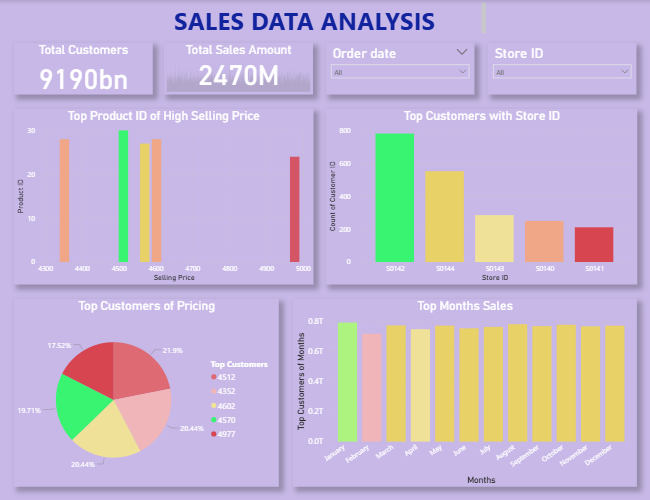

Layout of this report page (visuals, bound fields, positions):
{"tool":"powerbi","page":{"name":"Page 1","canvas":[1280,980],"ordinal":0},"visuals":[{"type":"textbox","box":[245.2,0,713.9,72.2],"z":0},{"type":"kpi","title":"Total Sales Amount","fields":{"Indicator":["Sum(order_details_v1.customer_id)"],"TrendLine":["order_details_v1.selling_price"]},"box":[324.2,84,292.3,100.8],"z":1000},{"type":"card","title":"Total Customers","fields":{"Values":["Sum(order_details_v1.customer_id)"]},"box":[28.6,84,272.1,100.8],"z":2000},{"type":"slicer","fields":{"Values":["order_details_v1.order_date"]},"box":[640,84,290.6,100.8],"z":3000},{"type":"slicer","fields":{"Values":["order_details_v1.store_id"]},"box":[959.2,84,290.6,100.8],"z":4000},{"type":"columnChart","title":"Top Customers with Store ID","fields":{"Y":["Count(order_details_v1.customer_id)"],"Category":["order_details_v1.store_id"]},"box":[640.3,212.8,609.9,343.9],"z":5000},{"type":"columnChart","title":"Top Product ID of High Selling Price","fields":{"Y":["CountNonNull(order_details_v1.product_id)"],"Category":["order_details_v1.selling_price"]},"box":[28.5,212.8,587.1,343.9],"z":6000},{"type":"pieChart","title":"Top Customers of Pricing","fields":{"Category":["order_details_v1.selling_price"],"Y":["Sum(order_details_v1.customer_id)"]},"box":[29.4,586,519.4,368.5],"z":7000},{"type":"clusteredColumnChart","title":"Top Months Sales","fields":{"Y":["Sum(order_details_v1.customer_id)"],"Category":["order_details_v1.order_date.Variation.Date Hierarchy.Month"]},"box":[576.2,586,674.2,368.5],"z":8000}]}

Visuals, with their boxes in screenshot pixels (x1, y1, x2, y2), scaled from the page's 1280x980 canvas onto the 650x500 screenshot:
textbox: <box>125,0,487,37</box>
"Total Sales Amount" kpi: <box>165,43,313,94</box>
"Total Customers" card: <box>15,43,153,94</box>
slicer - order_details_v1.order_date: <box>325,43,473,94</box>
slicer - order_details_v1.store_id: <box>487,43,635,94</box>
"Top Customers with Store ID" columnChart: <box>325,109,635,284</box>
"Top Product ID of High Selling Price" columnChart: <box>14,109,313,284</box>
"Top Customers of Pricing" pieChart: <box>15,299,279,487</box>
"Top Months Sales" clusteredColumnChart: <box>293,299,635,487</box>
